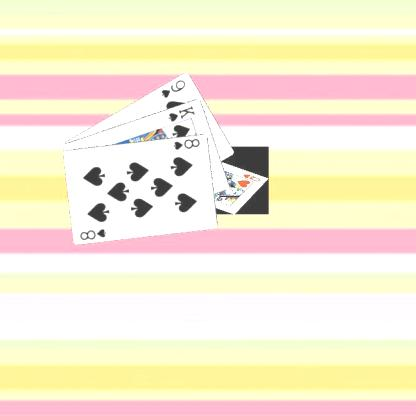8S: (77, 225, 108, 242), (170, 135, 202, 151)
9S: (158, 76, 186, 99)
KS: (165, 102, 196, 122)
